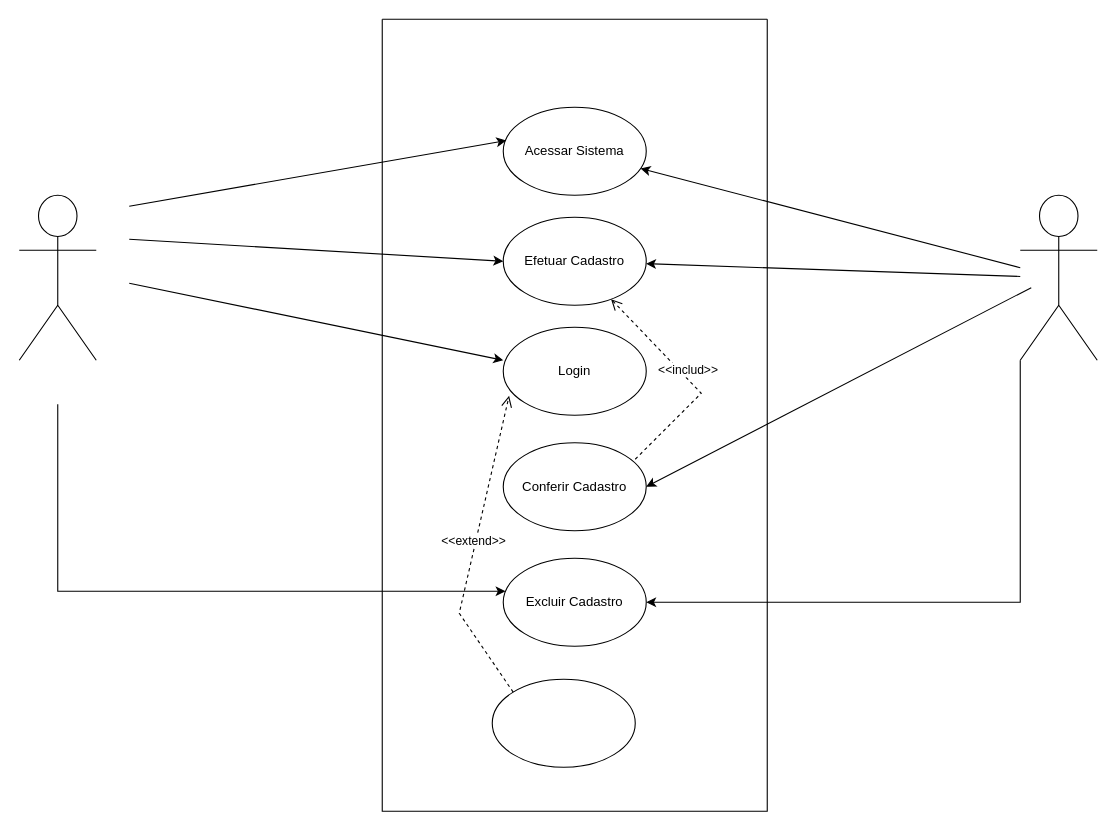
Image size: 1117x831. Some labels were removed from this diagram. Each missing label, with the centre of its shape:
ADM: the point at 1058,277
Cliente: the point at 57,277
Editar Cadastro: the point at 563,722
